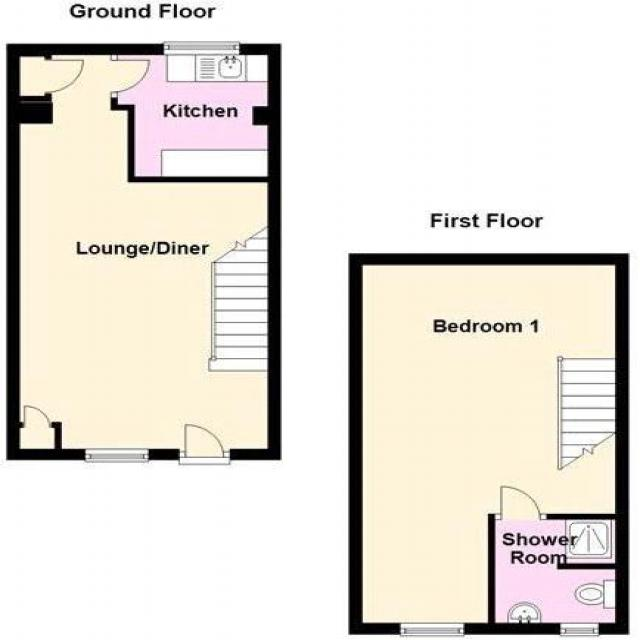DOOR: (179, 421, 231, 466), (109, 53, 152, 100), (493, 485, 548, 520), (21, 401, 56, 428)
ROOM: (6, 43, 282, 466), (348, 252, 630, 639), (110, 39, 280, 181)
WINDOW: (161, 38, 243, 58), (82, 446, 151, 466), (398, 621, 467, 638), (556, 620, 602, 638)
